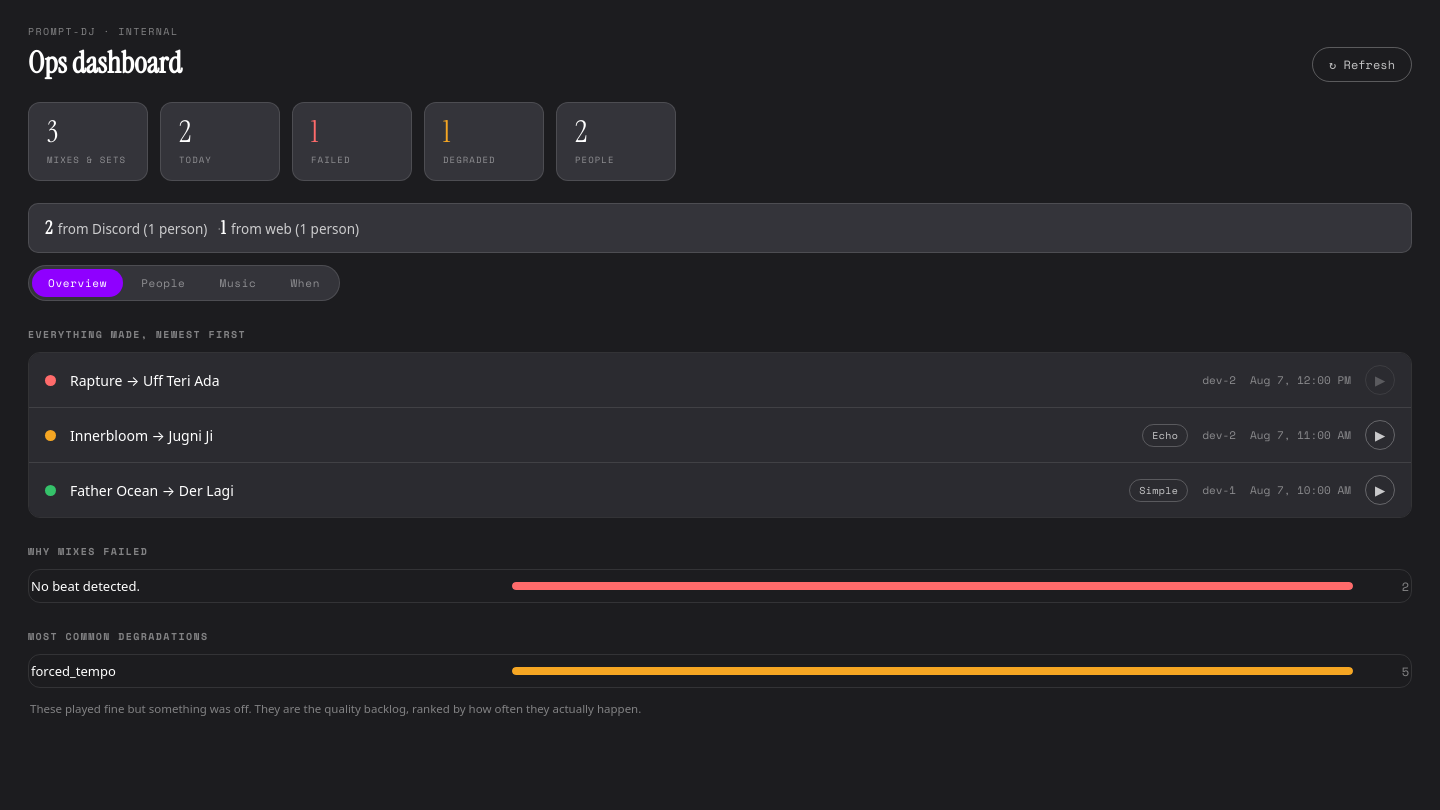
Test: the 'people' view lists people busiest-first
Expected: the element with test id "event-list" is shown, 28,352 -> 1412,518
Click the tab "People": (163, 283) 125,269 -> 202,297
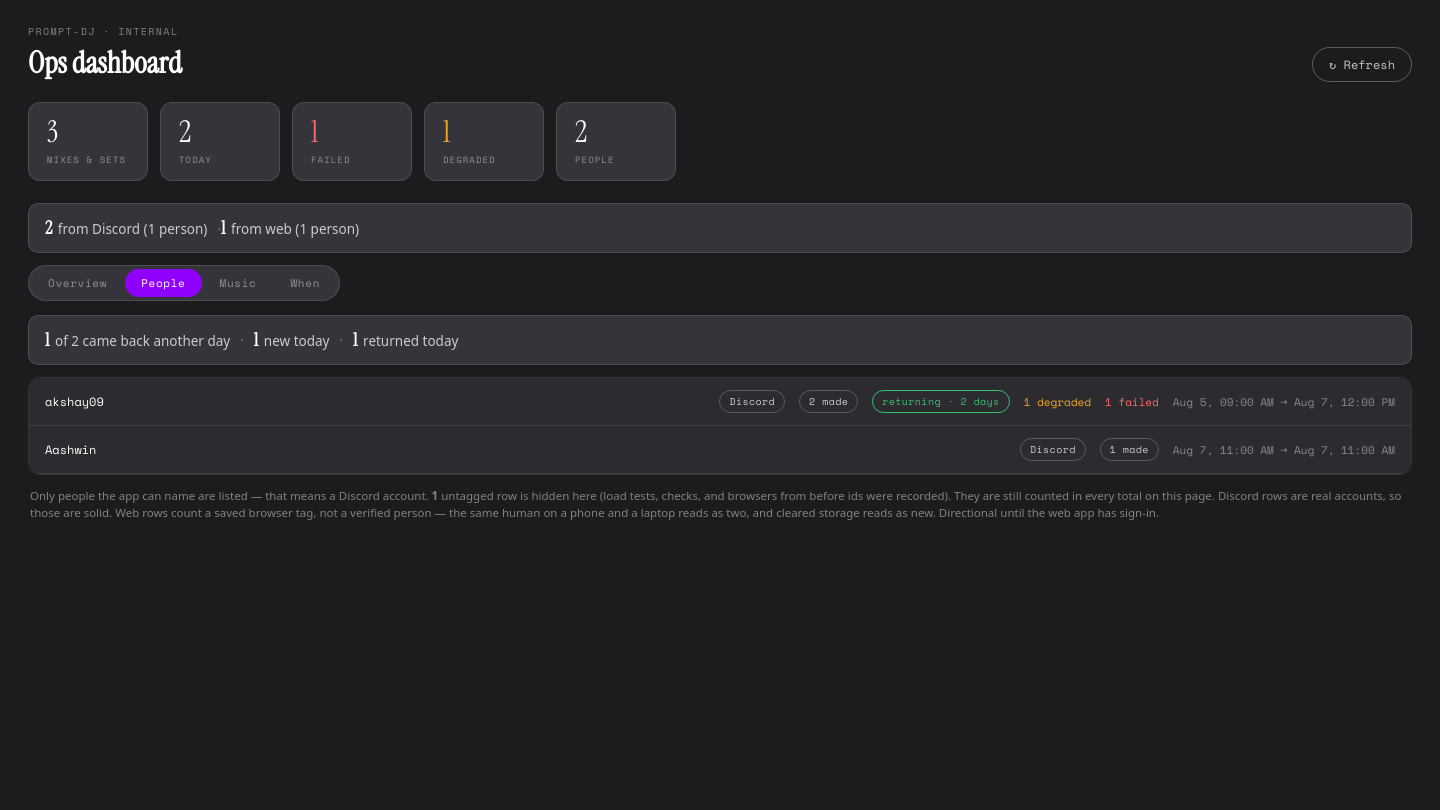
Expected: the text "akshay09" is shown, 45,393 -> 104,410
Expected: the text "2 made" is shown, 799,390 -> 858,413
Expected: the button with aria-label "Open this person's page" shows "2 made", 29,378 -> 1411,426
